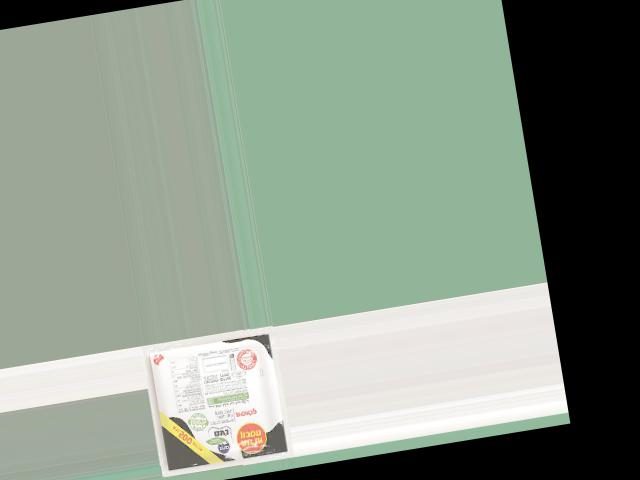cheese: (143, 336, 288, 468)
